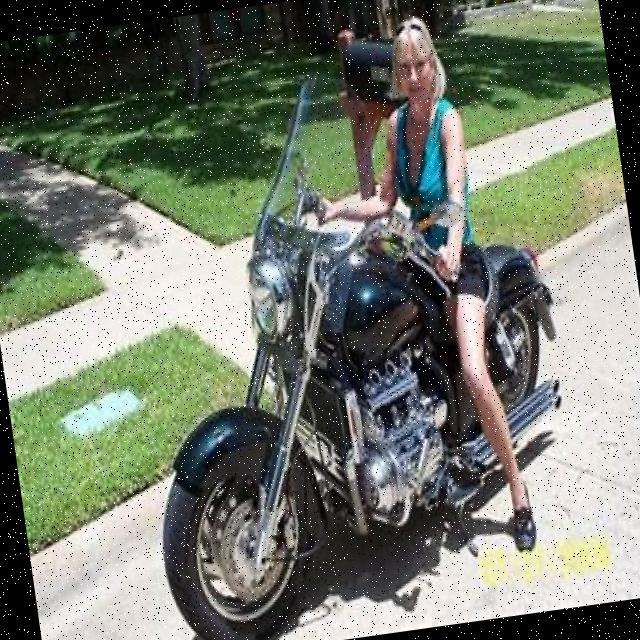No helmet: (377, 3, 472, 128)
